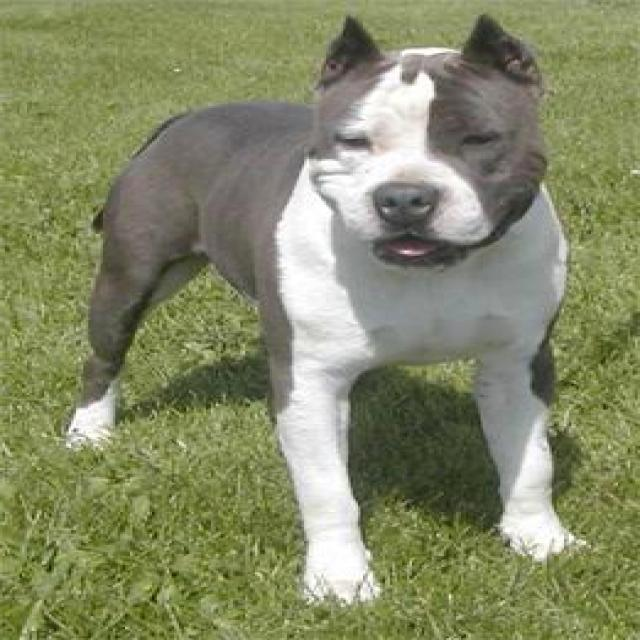staffordshire_bullterrier: (59, 7, 588, 613)
